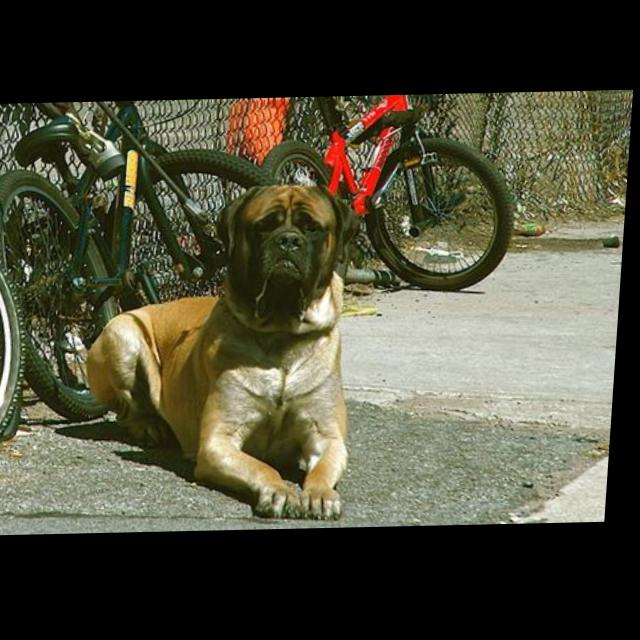bullmastiff: (84, 182, 372, 528)
